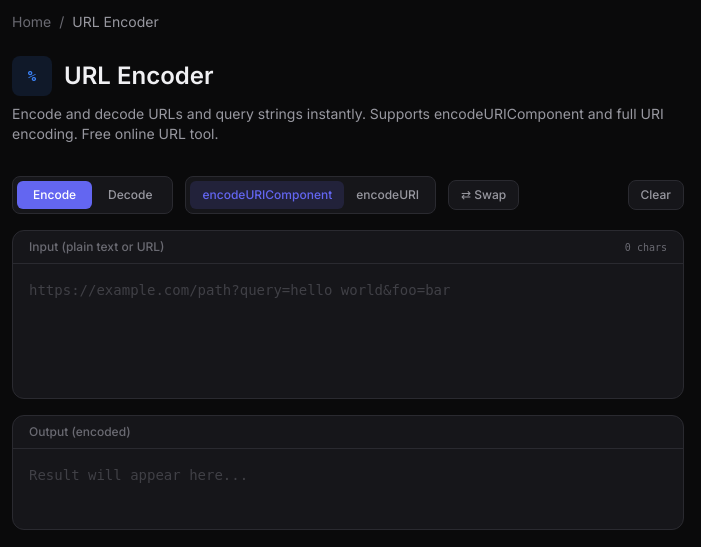
it: UrlEncoder › encodes URL with special characters
In the text box with placeholder "https://example.com/path?query=hello world&foo=bar": (348, 328) [13,264,683,392], type "hello world"
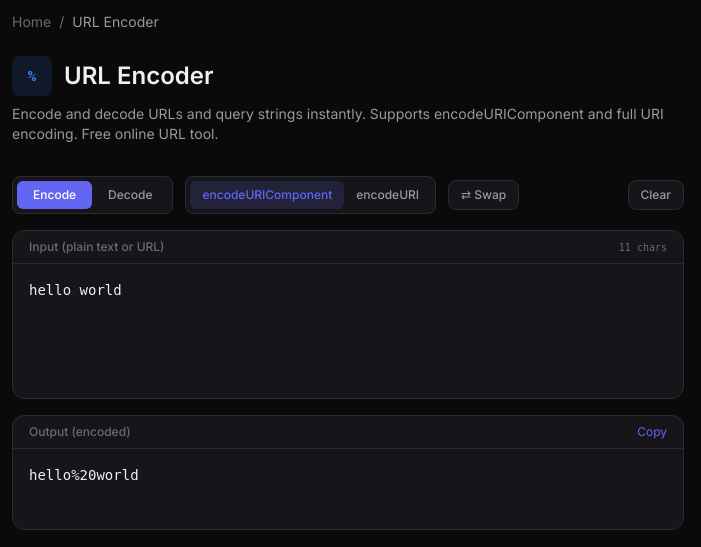
Check: the text "hello%20world" is shown, box [29,467,139,483]
